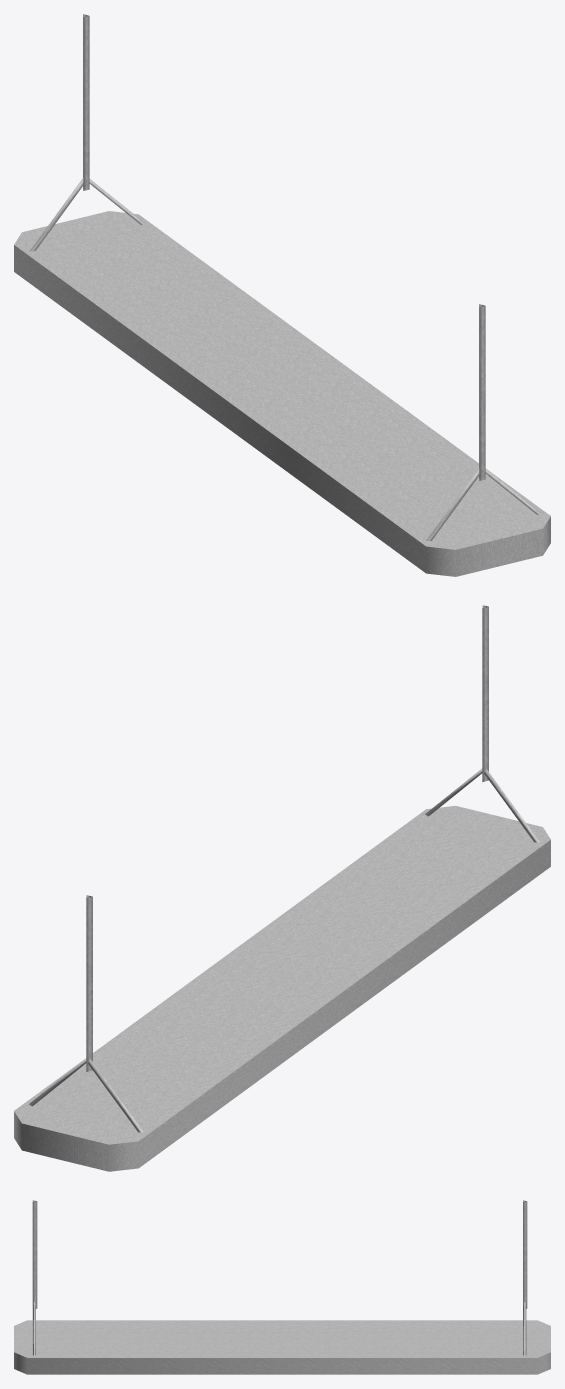
File: Lamp_Ceiling.fbx
The picture shows the model from 3 angles, top to bottom: view 1: azimuth 30°, elevation 25°; view 2: azimuth 150°, elevation 25°; view 3: azimuth 270°, elevation 25°; orthographic projection. The views are drawn at different scales.
Visible parts, largest first — view 1: Lamp_Ceiling; view 2: Lamp_Ceiling; view 3: Lamp_Ceiling.
Boxes of the visible parts, x1,y1,x2,y2 form: Lamp_Ceiling: (14, 14, 550, 576); Lamp_Ceiling: (14, 605, 550, 1171); Lamp_Ceiling: (14, 1200, 550, 1374).
Bounding box in the file's own units: 32.88 × 62.73 × 198.
